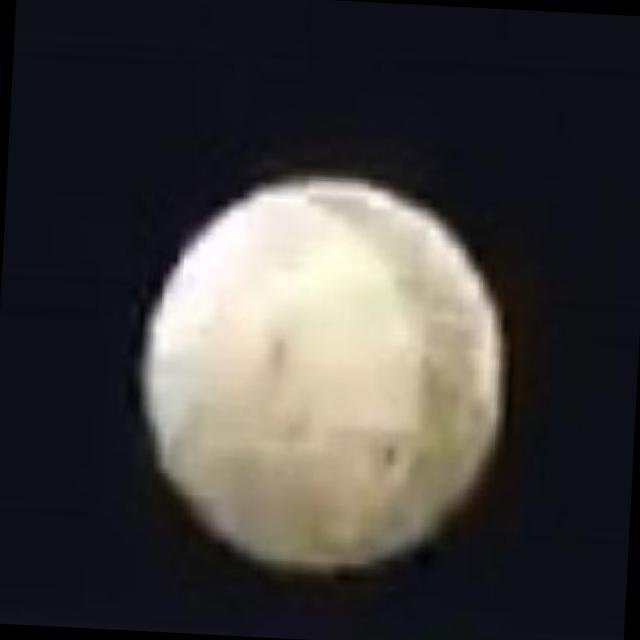-: (132, 172, 515, 563)
